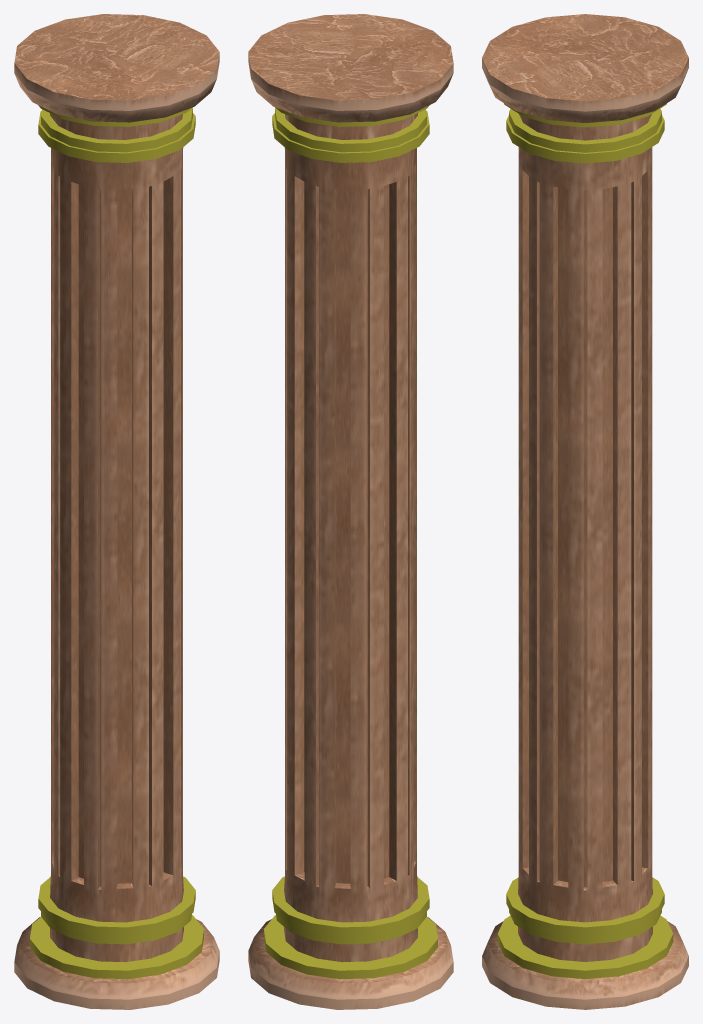
The model's file is Columna1.fbx.
3 views of the same model, side by side, from view 1: azimuth 30°, elevation 25°; view 2: azimuth 150°, elevation 25°; view 3: azimuth 270°, elevation 25° (orthographic).
Parts seen in each view (by area): view 1: Cylinder.002; view 2: Cylinder.002; view 3: Cylinder.002.
Boxes of the visible parts, x1=… form: Cylinder.002: x1=14, y1=14, x2=219, y2=1009; Cylinder.002: x1=248, y1=14, x2=453, y2=1009; Cylinder.002: x1=482, y1=14, x2=688, y2=1009.
Size of the model in its own units: 395 by 1912 by 395.
Materials: 1 (1 with a texture image).
